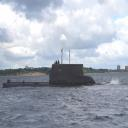submarine: (4, 64, 106, 86)
